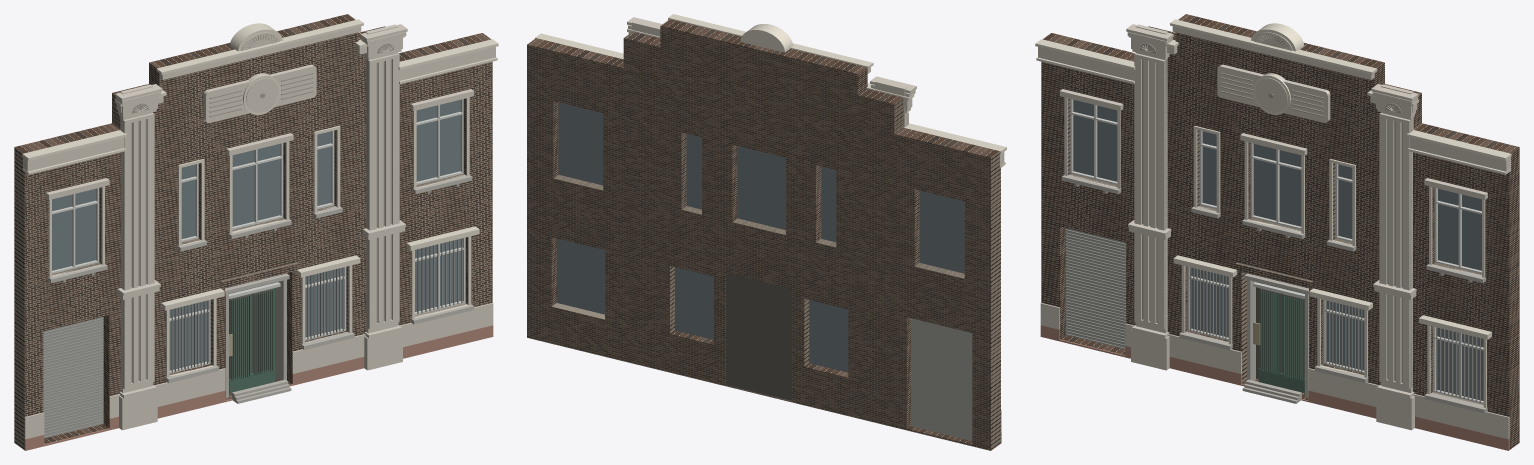
The model's file is huangpu-yuanyuanchang-bank-jiangxi-front-raw.glb.
3 renders of one model, left to right at view 1: azimuth 30°, elevation 25°; view 2: azimuth 150°, elevation 25°; view 3: azimuth 330°, elevation 25°, orthographic.
Parts seen in each view (by area): view 1: 源源长银行江西中路473号圆徽砖立面; view 2: 源源长银行江西中路473号圆徽砖立面; view 3: 源源长银行江西中路473号圆徽砖立面.
Part boxes in pixels (<box>): 源源长银行江西中路473号圆徽砖立面: <box>14,14,498,450</box>; 源源长银行江西中路473号圆徽砖立面: <box>527,14,1006,450</box>; 源源长银行江西中路473号圆徽砖立面: <box>1035,14,1519,450</box>.
Size of the model in its own units: 19.14 by 14.17 by 1.15.
Materials: 13 (1 with a texture image).
